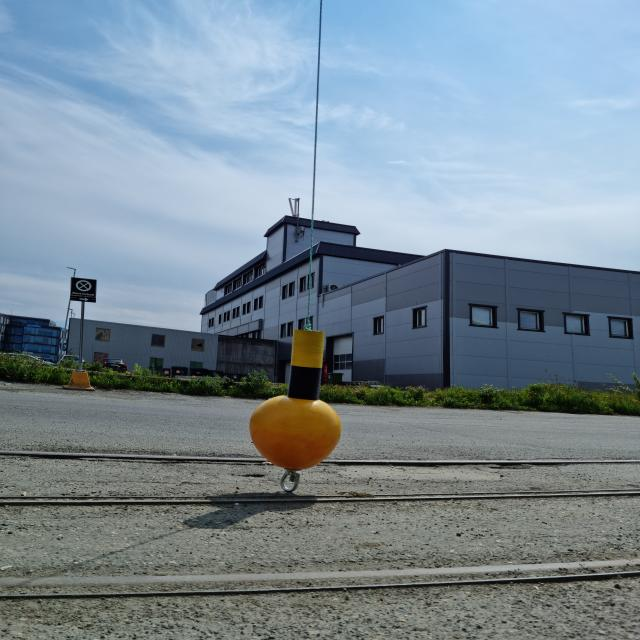west: (250, 328, 342, 472)
